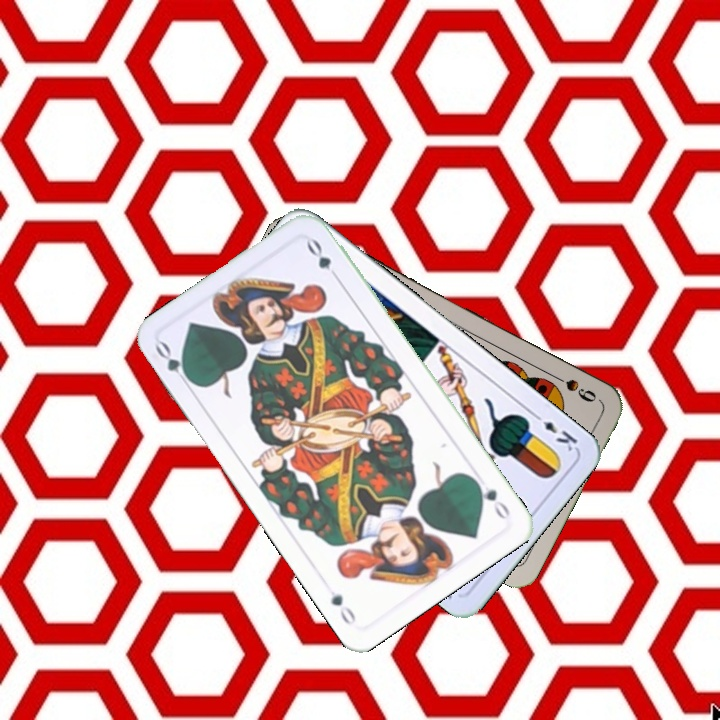EK: (528, 408, 580, 454)
GO: (151, 337, 197, 391), (469, 474, 513, 523)
S9: (546, 369, 599, 405)
